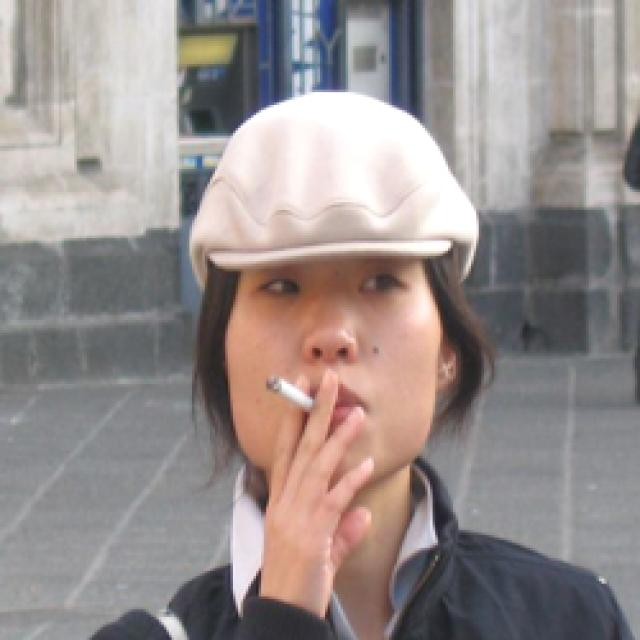Smooking: (258, 367, 314, 419)
